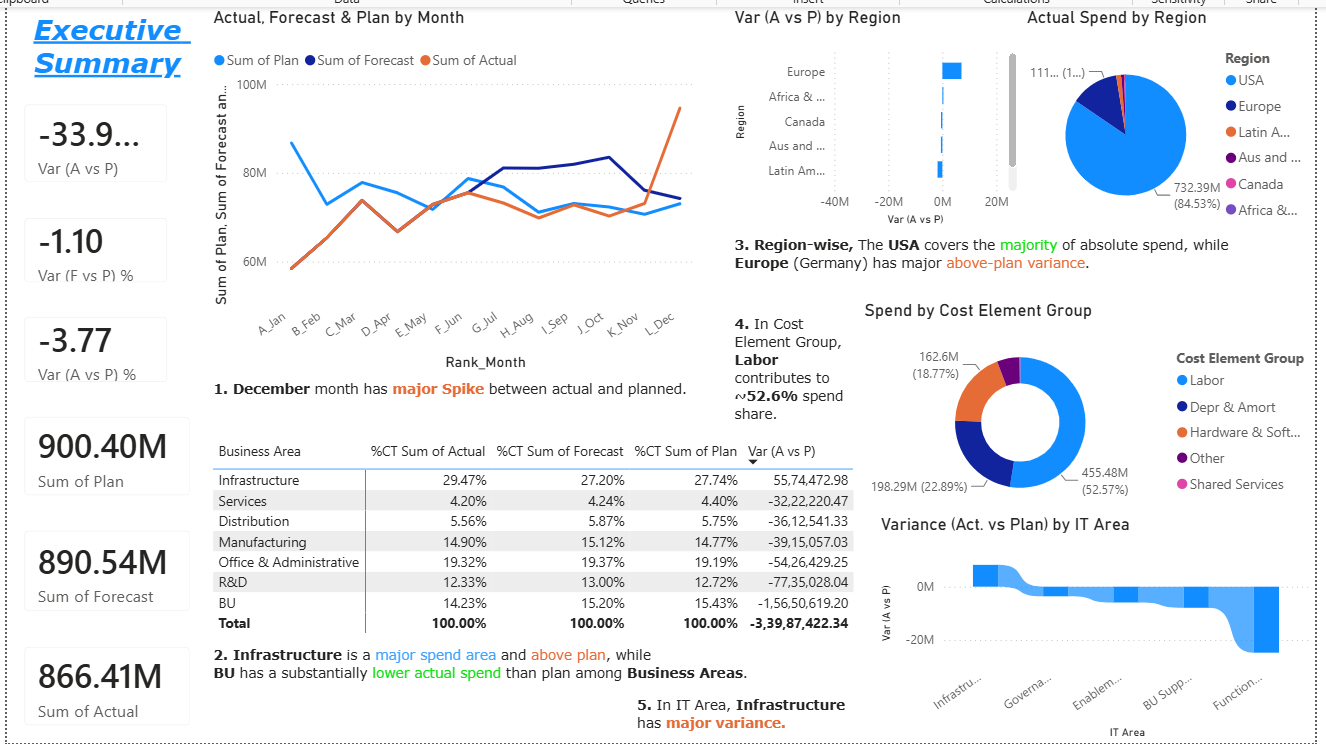

Layout of this report page (visuals, bound fields, positions):
{"tool":"powerbi","page":{"name":"Summary","canvas":[1280,720],"ordinal":0},"visuals":[{"type":"lineChart","title":"Actual, Forecast & Plan by Month","fields":{"Category":["Data.Month"],"Y":["Sum(Data.Plan)","Sum(Data.Forecast)","Sum(Data.Actual)"]},"box":[196.6,0,480.4,360],"z":0},{"type":"cardVisual","fields":{"Data":["Sum(Data.Actual)"]},"box":[0,609.4,196.2,111.1],"z":1000},{"type":"cardVisual","fields":{"Data":["Sum(Data.Forecast)"]},"box":[0,495.1,196.2,113.9],"z":2000},{"type":"cardVisual","fields":{"Data":["Sum(Data.Plan)"]},"box":[0,384.6,196.2,111.1],"z":3000},{"type":"textbox","box":[0,0,196.6,103.2],"z":4000},{"type":"cardVisual","fields":{"Data":["Data.Var (A vs F) %"]},"box":[0,189.2,174.5,97.1],"z":5000},{"type":"cardVisual","fields":{"Data":["Data.Var (A vs P) %"]},"box":[0,286.3,174.5,98.3],"z":6000},{"type":"cardVisual","fields":{"Data":["Data.Var (A vs P)"]},"box":[0,78.6,174.5,110.6],"z":7000},{"type":"clusteredBarChart","fields":{"Category":["Data.Region"],"Y":["Data.Var (A vs P)"]},"box":[706.5,0,286.3,218.7],"z":8000},{"type":"textbox","box":[706.5,218.7,522.2,59],"z":9000},{"type":"pieChart","title":"Actual Spend by Region","fields":{"Category":["Data.Region"],"Y":["Sum(Data.Actual)"]},"box":[992.7,0,287.5,218.7],"z":10000},{"type":"donutChart","title":"Spend by Cost Element Group","fields":{"Category":["Data.Cost Element Group"],"Y":["Sum(Data.Actual)"]},"box":[834.3,286.3,446,208.9],"z":11000},{"type":"pivotTable","fields":{"Rows":["Data.Business Area"],"Values":["Sum(Data.Actual)","Sum(Data.Forecast)","Sum(Data.Plan)","Data.Var (A vs P)"]},"box":[196.6,417.7,637.7,202.7],"z":12000},{"type":"textbox","box":[196.6,620.5,551.7,57.7],"z":13000},{"type":"ribbonChart","title":"Variance (Act. vs Plan) by IT Area","fields":{"Category":["Data.IT Area"],"Y":["Data.Var (A vs P)"]},"box":[850.2,495.1,430,224.8],"z":14000},{"type":"textbox","box":[611.9,668.4,238.4,51.6],"z":15000},{"type":"textbox","box":[196.6,360,480.4,45.5],"z":16000},{"type":"textbox","box":[706.5,296.1,127.8,121.6],"z":17000}]}

Visuals, with their boxes on the page's 1280x720 design canvas (x1, y1, x2, y2). These are canvas units, not pixel positions in the 1326x747 screenshot, which may show the page scaled, cropped or inside an application window:
"Actual, Forecast & Plan by Month" lineChart: region(197, 0, 677, 360)
cardVisual - Sum(Data.Actual): region(0, 609, 196, 720)
cardVisual - Sum(Data.Forecast): region(0, 495, 196, 609)
cardVisual - Sum(Data.Plan): region(0, 385, 196, 496)
textbox: region(0, 0, 197, 103)
cardVisual - Data.Var (A vs F) %: region(0, 189, 174, 286)
cardVisual - Data.Var (A vs P) %: region(0, 286, 174, 385)
cardVisual - Data.Var (A vs P): region(0, 79, 174, 189)
clusteredBarChart - Data.Region x Data.Var (A vs P): region(706, 0, 993, 219)
textbox: region(706, 219, 1229, 278)
"Actual Spend by Region" pieChart: region(993, 0, 1280, 219)
"Spend by Cost Element Group" donutChart: region(834, 286, 1280, 495)
pivotTable - Data.Business Area x Sum(Data.Actual): region(197, 418, 834, 620)
textbox: region(197, 620, 748, 678)
"Variance (Act. vs Plan) by IT Area" ribbonChart: region(850, 495, 1280, 720)
textbox: region(612, 668, 850, 720)
textbox: region(197, 360, 677, 406)
textbox: region(706, 296, 834, 418)
